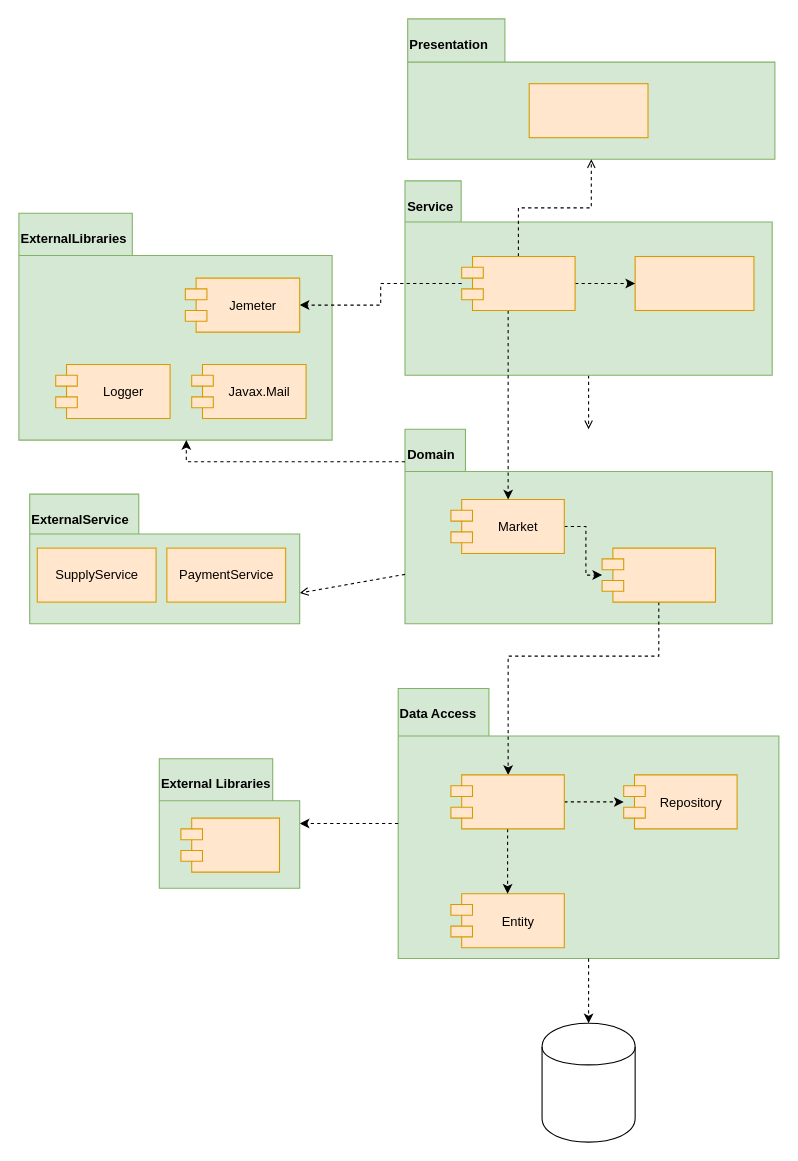
Image size: 798x1161. Some labels were removed from this diagram. The shapes that lost their labels are listed below. From the top down, each one's centre as x and y in pixels, then its label:
At point (588, 110): "Gui".
At point (518, 282): "api".
At point (694, 282): "iMarket".
At point (658, 574): "Mappers".
At point (507, 801): "Services".
At point (230, 844): "JPA".
At point (588, 1082): "DB".
